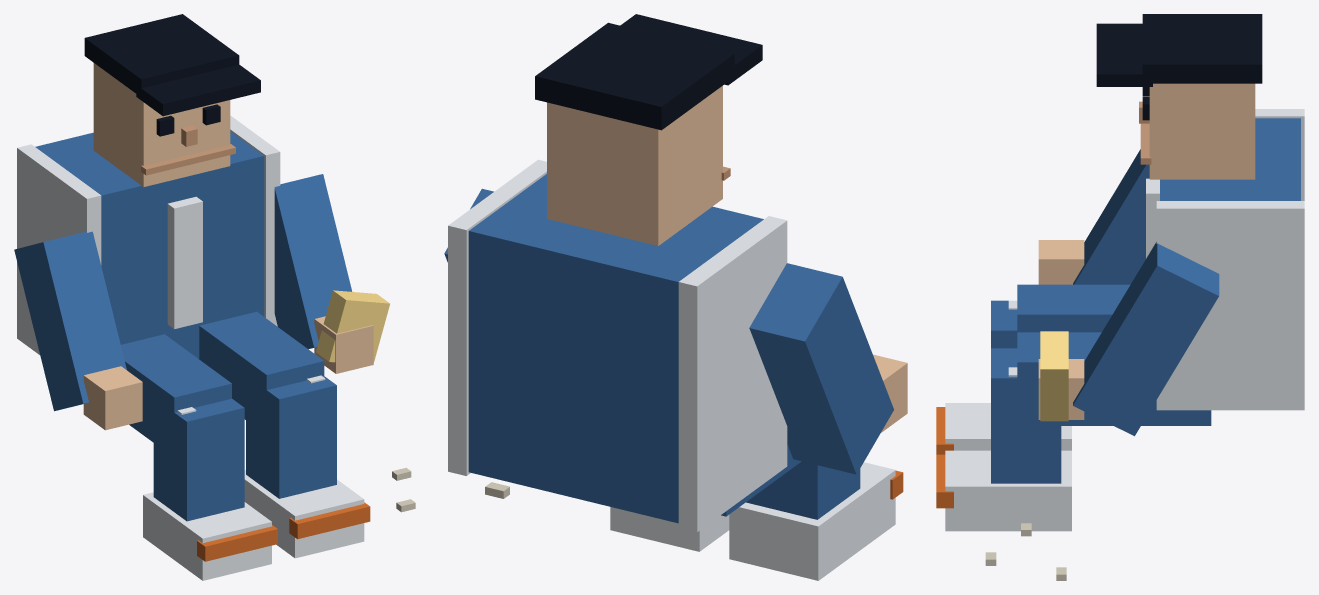
File: npc_vanya.glb
The picture shows the model from 3 angles, left to right: view 1: azimuth 30°, elevation 25°; view 2: azimuth 150°, elevation 25°; view 3: azimuth 270°, elevation 25°; orthographic projection. The views are drawn at different scales.
Parts seen in each view (by area): view 1: npc_vanya; view 2: npc_vanya; view 3: npc_vanya.
Boxes of the visible parts, x1,y1,x2,y2 form: npc_vanya: (14,14,415,580); npc_vanya: (444,14,907,580); npc_vanya: (936,14,1304,580).
Bounding box in the file's own units: 1.11 × 1.41 × 1.05.
Materials: 1 (1 with a texture image).
